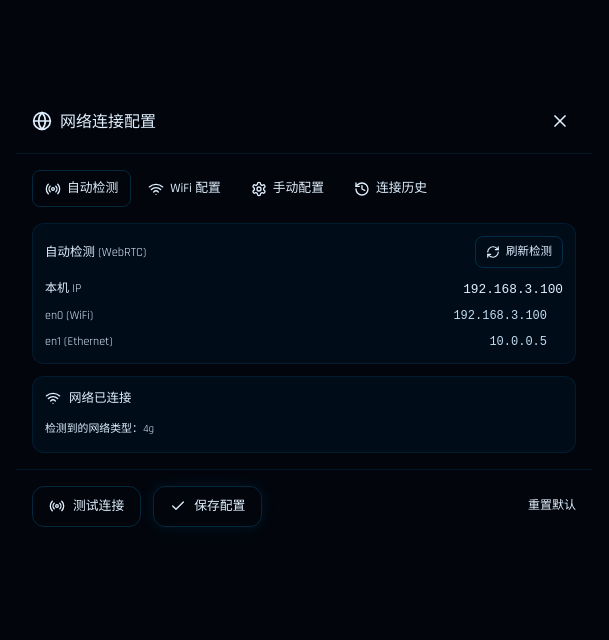
Test case: NetworkConfig › WiFi Tab › 切换到 WiFi Tab 应显示 WiFi 内容
The width and height of the screenshot is (609, 640).
Click the button "WiFi 配置".
click(184, 189)  # box [135,170,234,207]
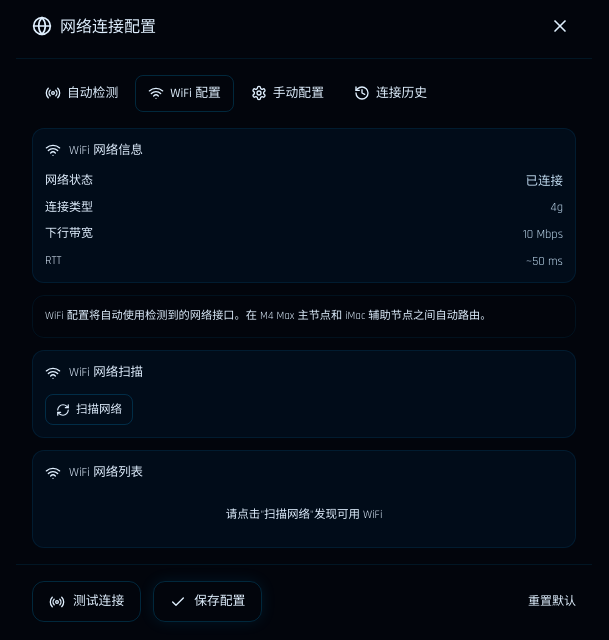
Expected: the text "WiFi 网络信息" is shown, [69,141,143,160]
